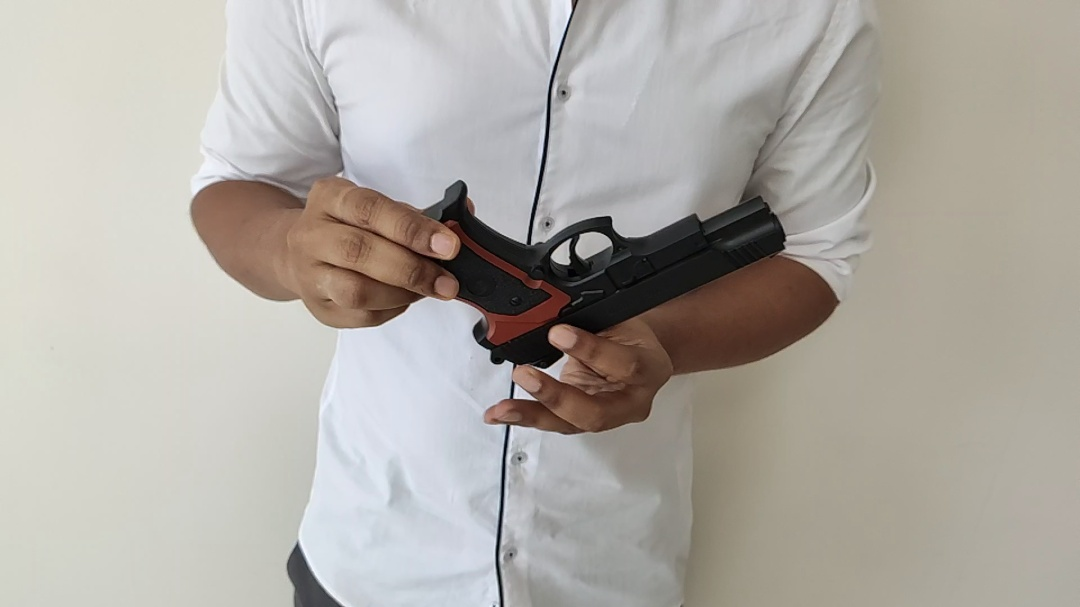gun: (422, 178, 788, 369)
